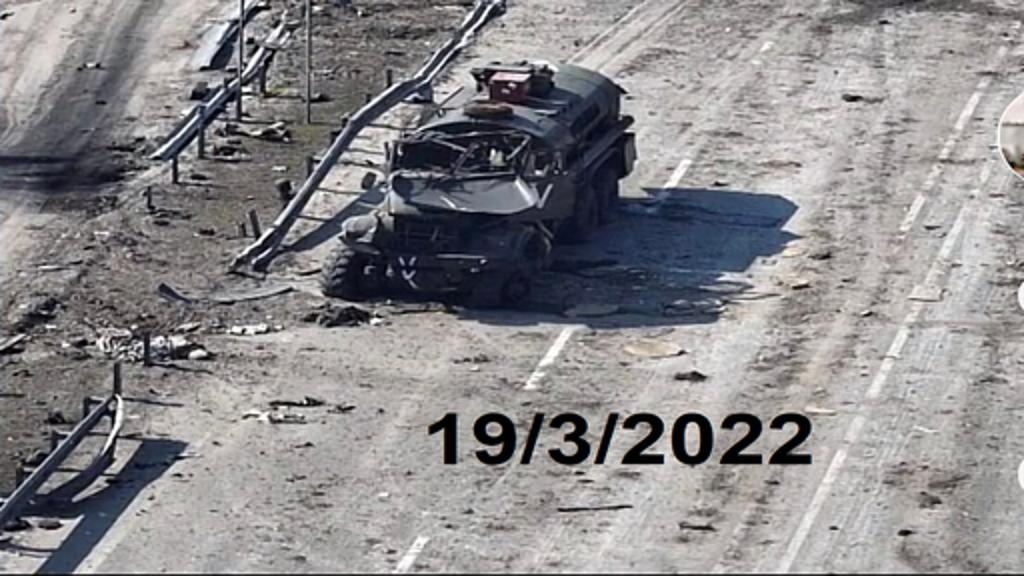TRUCK: (316, 52, 636, 308)
